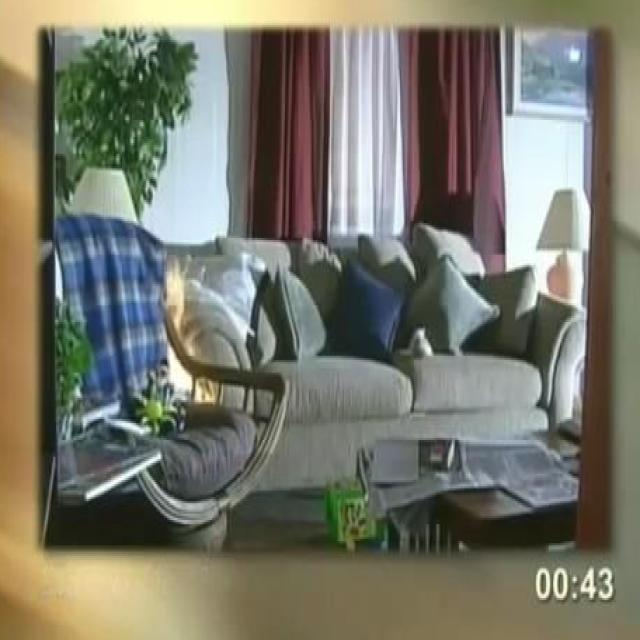smoke: (164, 265, 224, 404)
